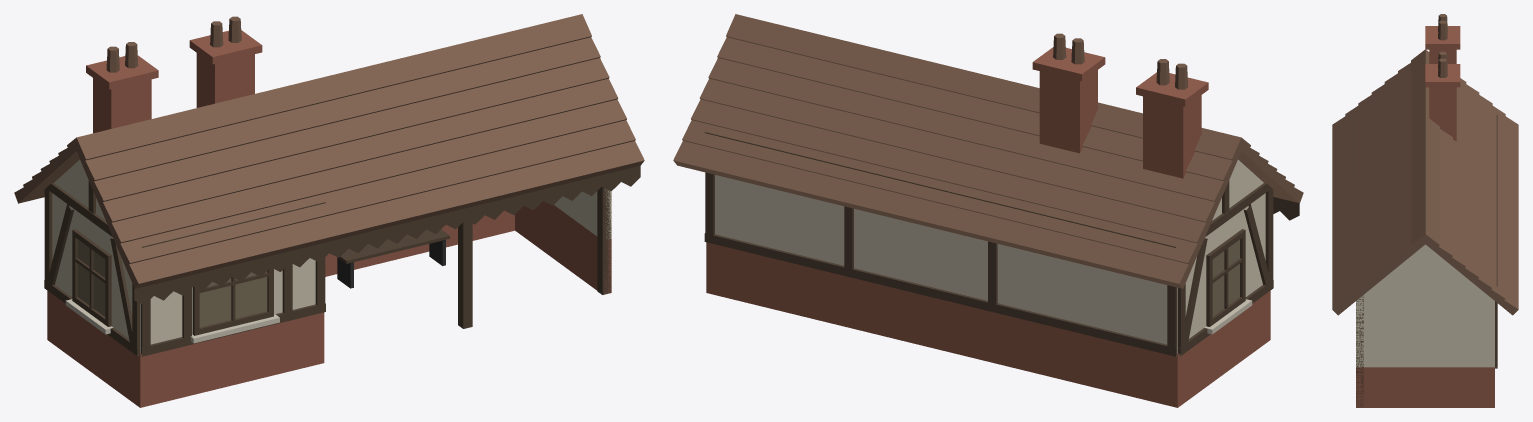
File: rail_station_shelter.glb
The picture shows the model from 3 angles, left to right: view 1: azimuth 30°, elevation 25°; view 2: azimuth 150°, elevation 25°; view 3: azimuth 270°, elevation 25°; orthographic projection. The views are drawn at different scales.
Visible parts, largest first — view 1: rail_station_shelter_lod0; view 2: rail_station_shelter_lod0; view 3: rail_station_shelter_lod0.
Boxes of the visible parts, bbox=[...] form: rail_station_shelter_lod0: bbox=[14, 14, 644, 407]; rail_station_shelter_lod0: bbox=[673, 14, 1303, 407]; rail_station_shelter_lod0: bbox=[1332, 14, 1518, 407].
Size of what is drawn, in the model's own units: 8.8 by 5.14 by 3.75.
